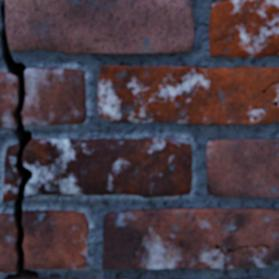brick: (102, 207, 278, 268), (97, 66, 278, 124), (5, 0, 193, 54), (205, 139, 278, 197), (208, 0, 278, 57), (6, 276, 190, 278), (216, 277, 278, 278)
broken_brick: (22, 138, 191, 196), (22, 209, 88, 268), (21, 68, 86, 125), (0, 212, 17, 271), (0, 72, 17, 128), (3, 144, 20, 200)
crack: (0, 1, 38, 276), (214, 244, 233, 255), (261, 81, 278, 92), (235, 243, 268, 248), (272, 100, 278, 105)
